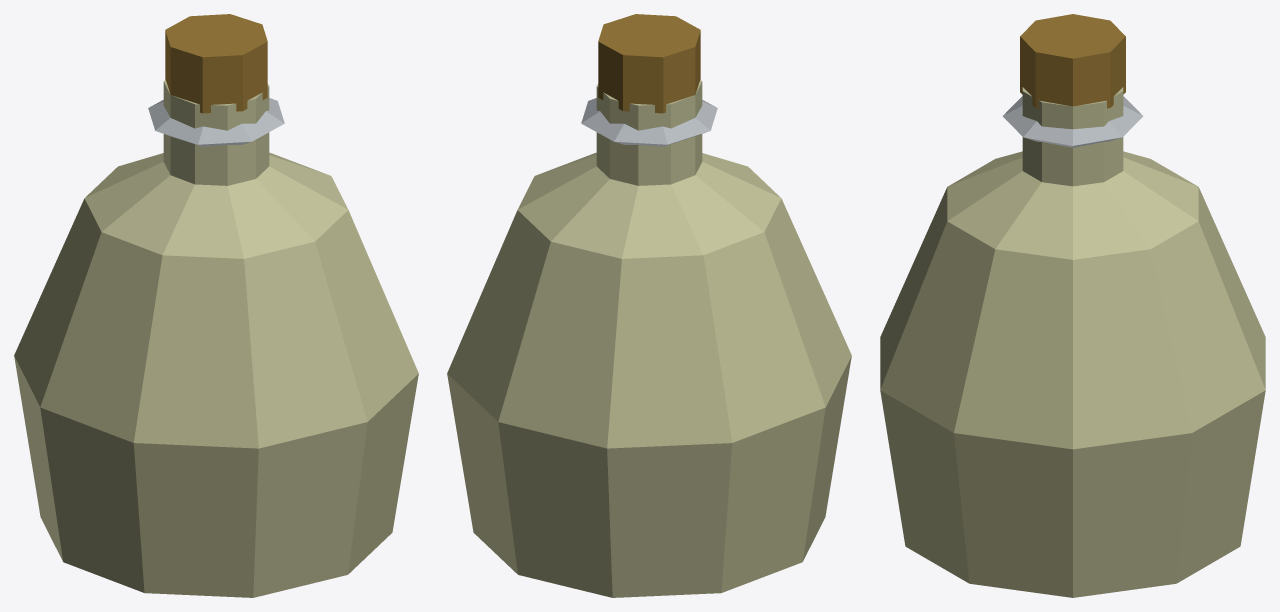
The model's file is tihaar.glb.
3 views of the same model, side by side, from view 1: azimuth 30°, elevation 25°; view 2: azimuth 150°, elevation 25°; view 3: azimuth 270°, elevation 25° (orthographic).
Visible parts, largest first — view 1: m; view 2: m; view 3: m.
Part boxes in pixels (x1,y1,x2,y2): m: (14, 14, 418, 597); m: (447, 14, 851, 597); m: (880, 14, 1265, 597).
Size of the model in its own units: 0.092 by 0.122 by 0.0875.
